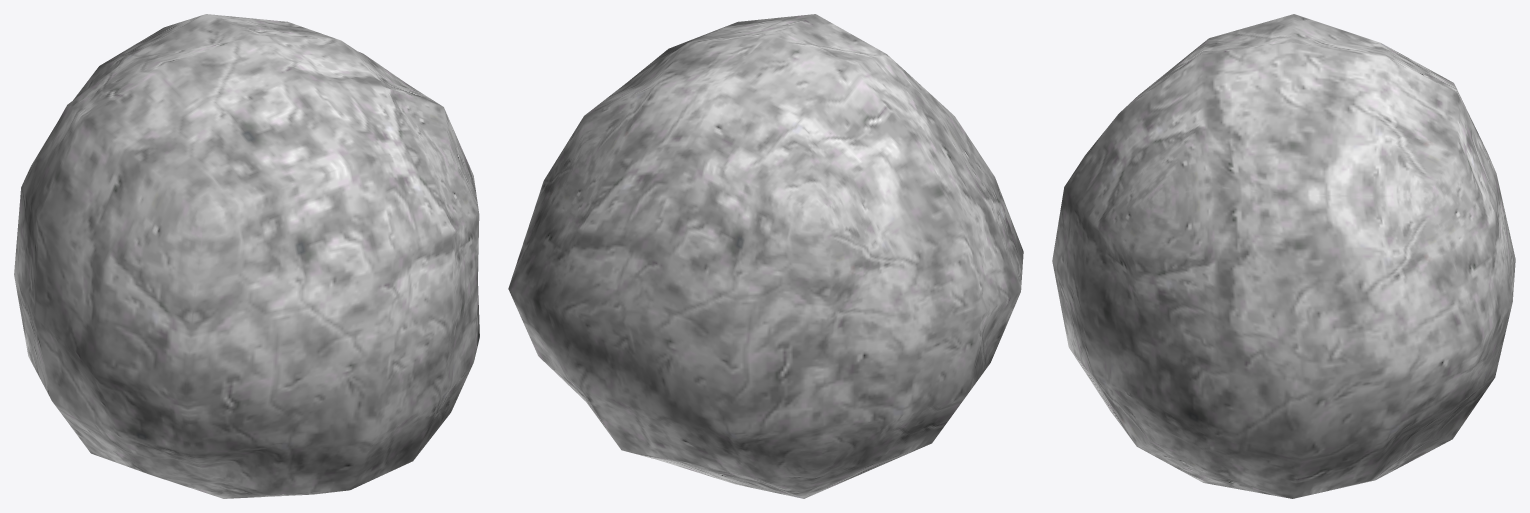
The model's file is INST_TROLLHOLE_ROLLINGROCKA.fbx.
3 views of the same model, side by side, from view 1: azimuth 30°, elevation 25°; view 2: azimuth 150°, elevation 25°; view 3: azimuth 270°, elevation 25° (orthographic). The views are drawn at different scales.
Visible parts, largest first — view 1: INST_TROLLHOLE_ROLLINGROCKA; view 2: INST_TROLLHOLE_ROLLINGROCKA; view 3: INST_TROLLHOLE_ROLLINGROCKA.
Boxes of the visible parts, bbox=[...] form: INST_TROLLHOLE_ROLLINGROCKA: bbox=[14, 14, 479, 498]; INST_TROLLHOLE_ROLLINGROCKA: bbox=[508, 14, 1023, 498]; INST_TROLLHOLE_ROLLINGROCKA: bbox=[1052, 14, 1515, 498].
Size of the model in its own units: 17921 by 17921 by 17921.
1 material, 1 textured.
